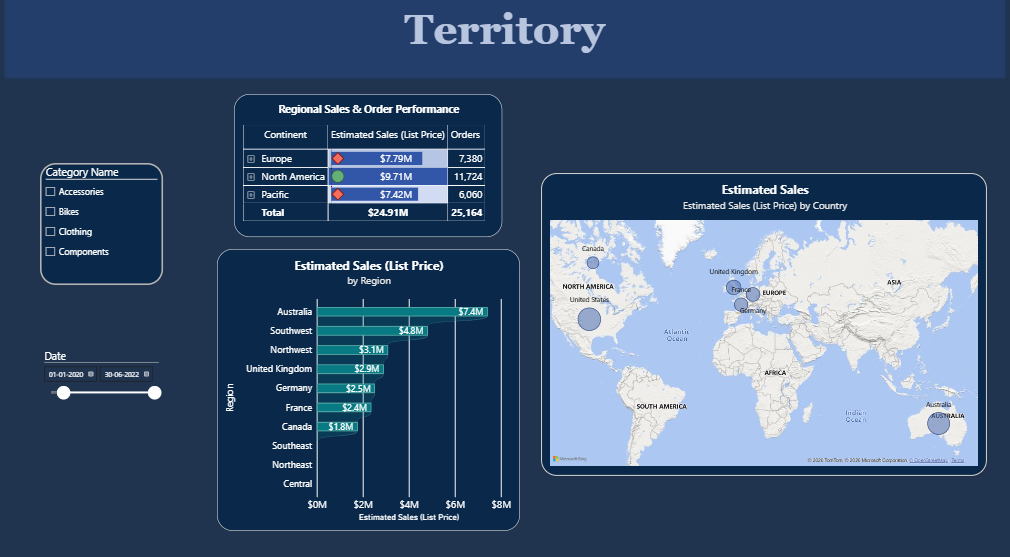

Layout of this report page (visuals, bound fields, positions):
{"tool":"powerbi","page":{"name":"Page 3","canvas":[1920,1080],"ordinal":2},"visuals":[{"type":"barChart","fields":{"Category":["DimTerritory.Region"],"Y":["FactSales.Estimated Sales (List Price)"]},"box":[412,488,576,536],"z":0},{"type":"pivotTable","title":"Regional Sales & Order Performance","fields":{"Rows":["DimTerritory.Continent","DimTerritory.Country","DimTerritory.Region"],"Values":["FactSales.Estimated Sales (List Price)","FactSales.Orders"]},"box":[444,194,510,272],"z":1000},{"type":"slicer","fields":{"Values":["DimDate.Date"]},"box":[76,676,234,144],"z":2000},{"type":"slicer","fields":{"Values":["DimProduct.CategoryName"]},"box":[76,326,234,232],"z":3000},{"type":"map","title":"Estimated Sales ","fields":{"Category":["DimTerritory.Country"],"Size":["FactSales.Estimated Sales (List Price)"]},"box":[1028,344,848,576],"z":4000},{"type":"textbox","box":[735,27.5,447.5,145],"z":4001},{"type":"shape","box":[0,0,1920,172.5],"z":4002}]}

Visuals, with their boxes in screenshot pixels (x1, y1, x2, y2), scaled from the page's 1920x1080 canvas onto the 1010x557 screenshot:
barChart - DimTerritory.Region x FactSales.Estimated Sales (List Price): [left=217, top=252, right=520, bottom=528]
"Regional Sales & Order Performance" pivotTable: [left=234, top=100, right=502, bottom=240]
slicer - DimDate.Date: [left=40, top=349, right=163, bottom=423]
slicer - DimProduct.CategoryName: [left=40, top=168, right=163, bottom=288]
"Estimated Sales " map: [left=541, top=177, right=987, bottom=474]
textbox: [left=387, top=14, right=622, bottom=89]
shape: [left=0, top=0, right=1009, bottom=89]
